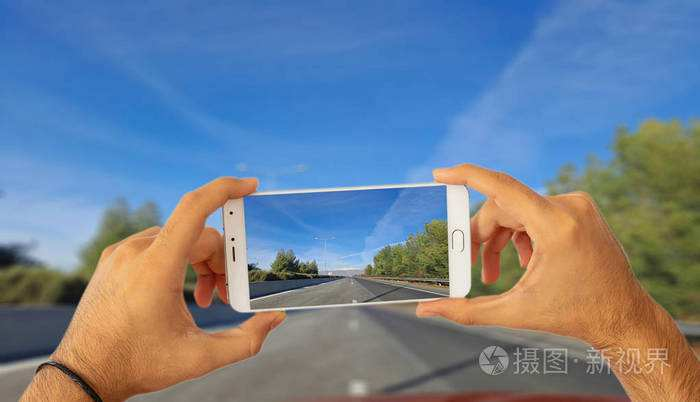taking photos: (60, 158, 670, 391)
